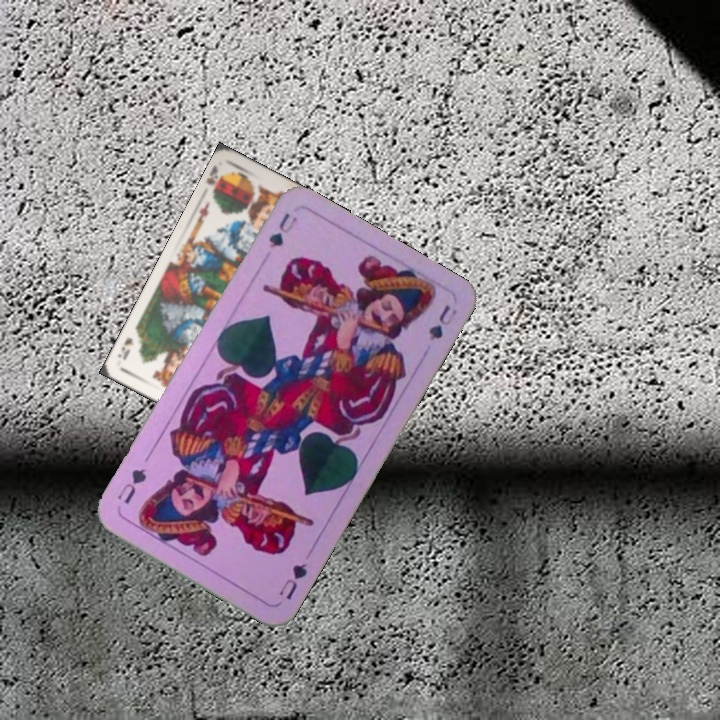GU: (274, 558, 310, 603), (264, 208, 300, 251)
SK: (202, 162, 226, 201)
